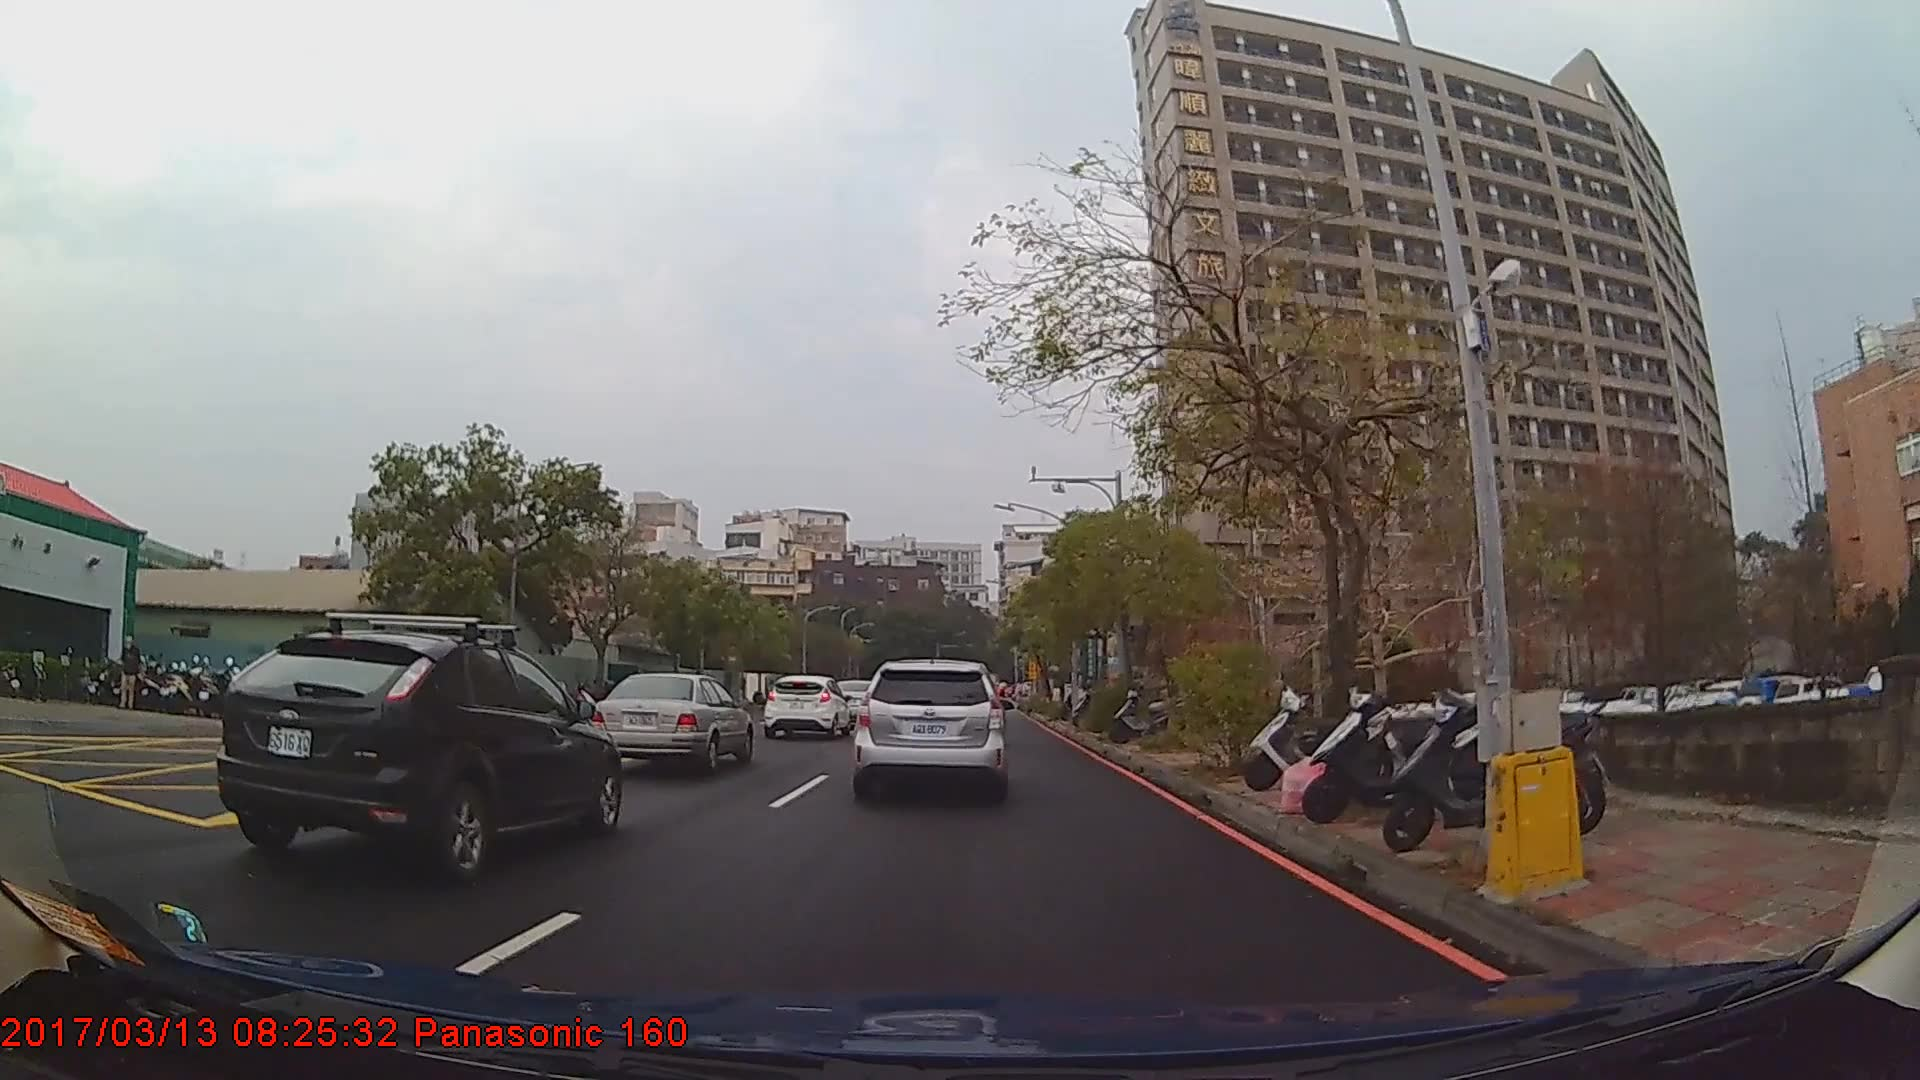pedestrian: (119, 637, 144, 712)
vehicle: (214, 627, 620, 877), (850, 656, 1004, 801), (587, 671, 751, 771), (760, 675, 851, 741)
